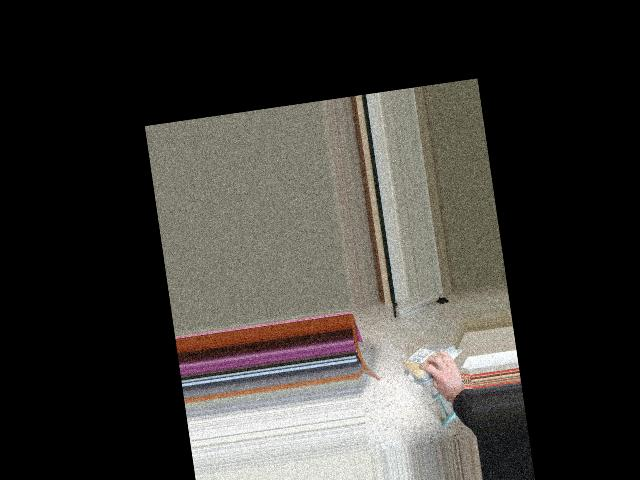cheese: (395, 342, 460, 379)
